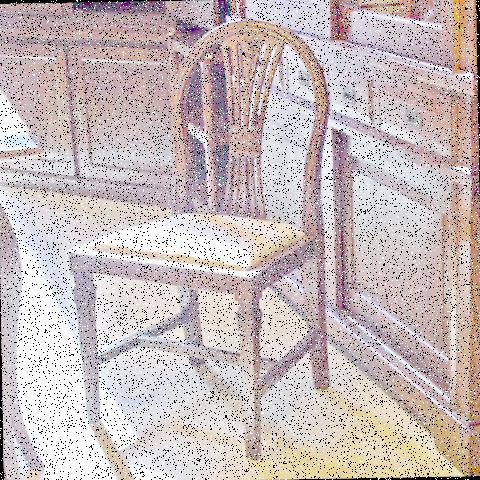Silla: (69, 19, 334, 456)
